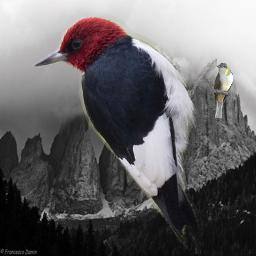Cuckoo: (213, 63, 233, 118)
Woodpecker: (24, 13, 217, 254)
